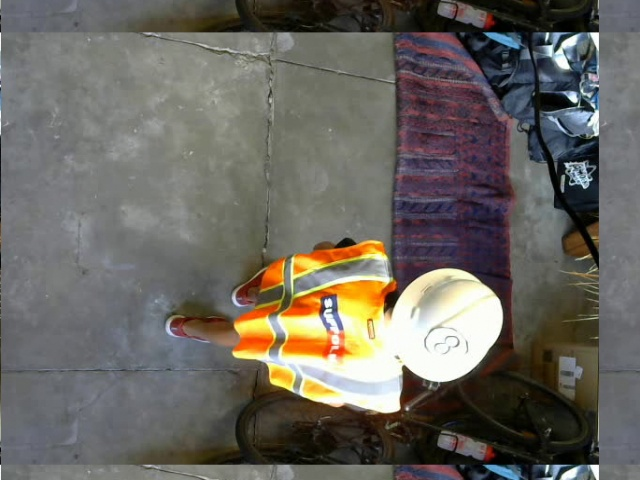eight: (423, 326, 469, 361)
